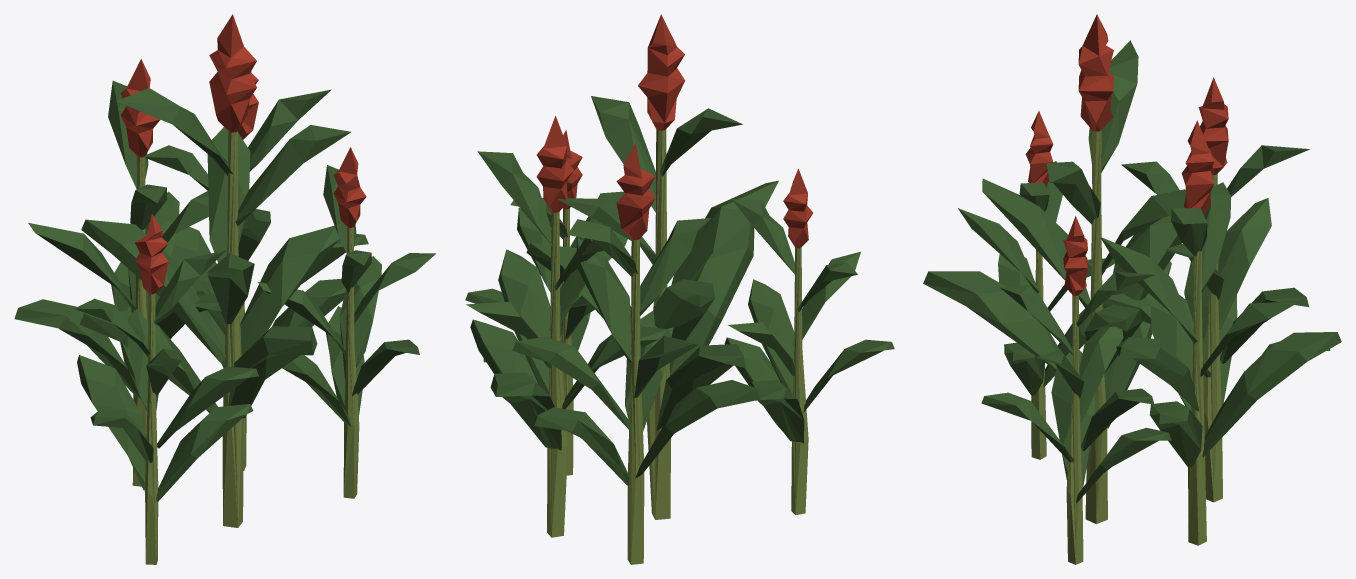
File: SM_Env_Flowers_02.glb
The picture shows the model from 3 angles, left to right: view 1: azimuth 30°, elevation 25°; view 2: azimuth 150°, elevation 25°; view 3: azimuth 270°, elevation 25°; orthographic projection.
Parts seen in each view (by area): view 1: SM_Env_Flowers_02_part00; view 2: SM_Env_Flowers_02_part00; view 3: SM_Env_Flowers_02_part00.
Part boxes in pixels (x1,y1,x2,y2): SM_Env_Flowers_02_part00: (14, 14, 435, 564); SM_Env_Flowers_02_part00: (465, 14, 894, 564); SM_Env_Flowers_02_part00: (923, 14, 1341, 564).
Bounding box in the file's own units: 1.24 × 1.66 × 1.25.
1 material, 1 textured.
